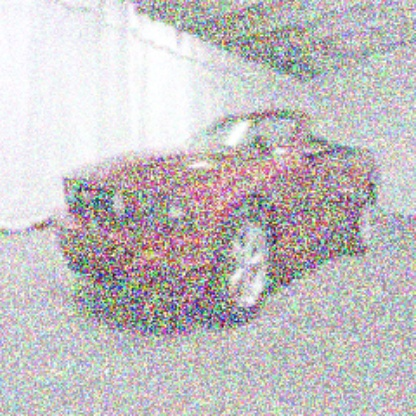Vehicle: (50, 107, 387, 335)
